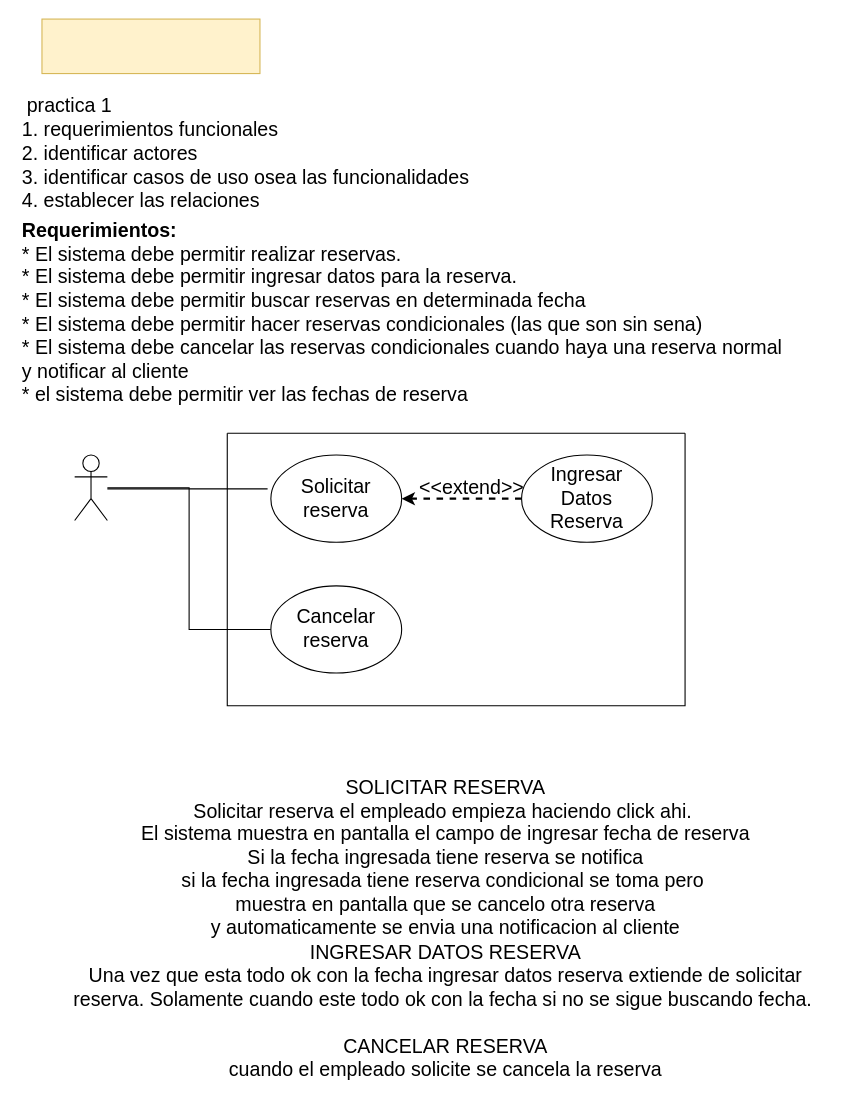
Image size: 850x1106. Some labels were removed from this diagram. Each missing label, with the box of its shape:
CASOS DE USO: (41, 18, 260, 74)
Empleado Salon: (74, 454, 107, 520)
